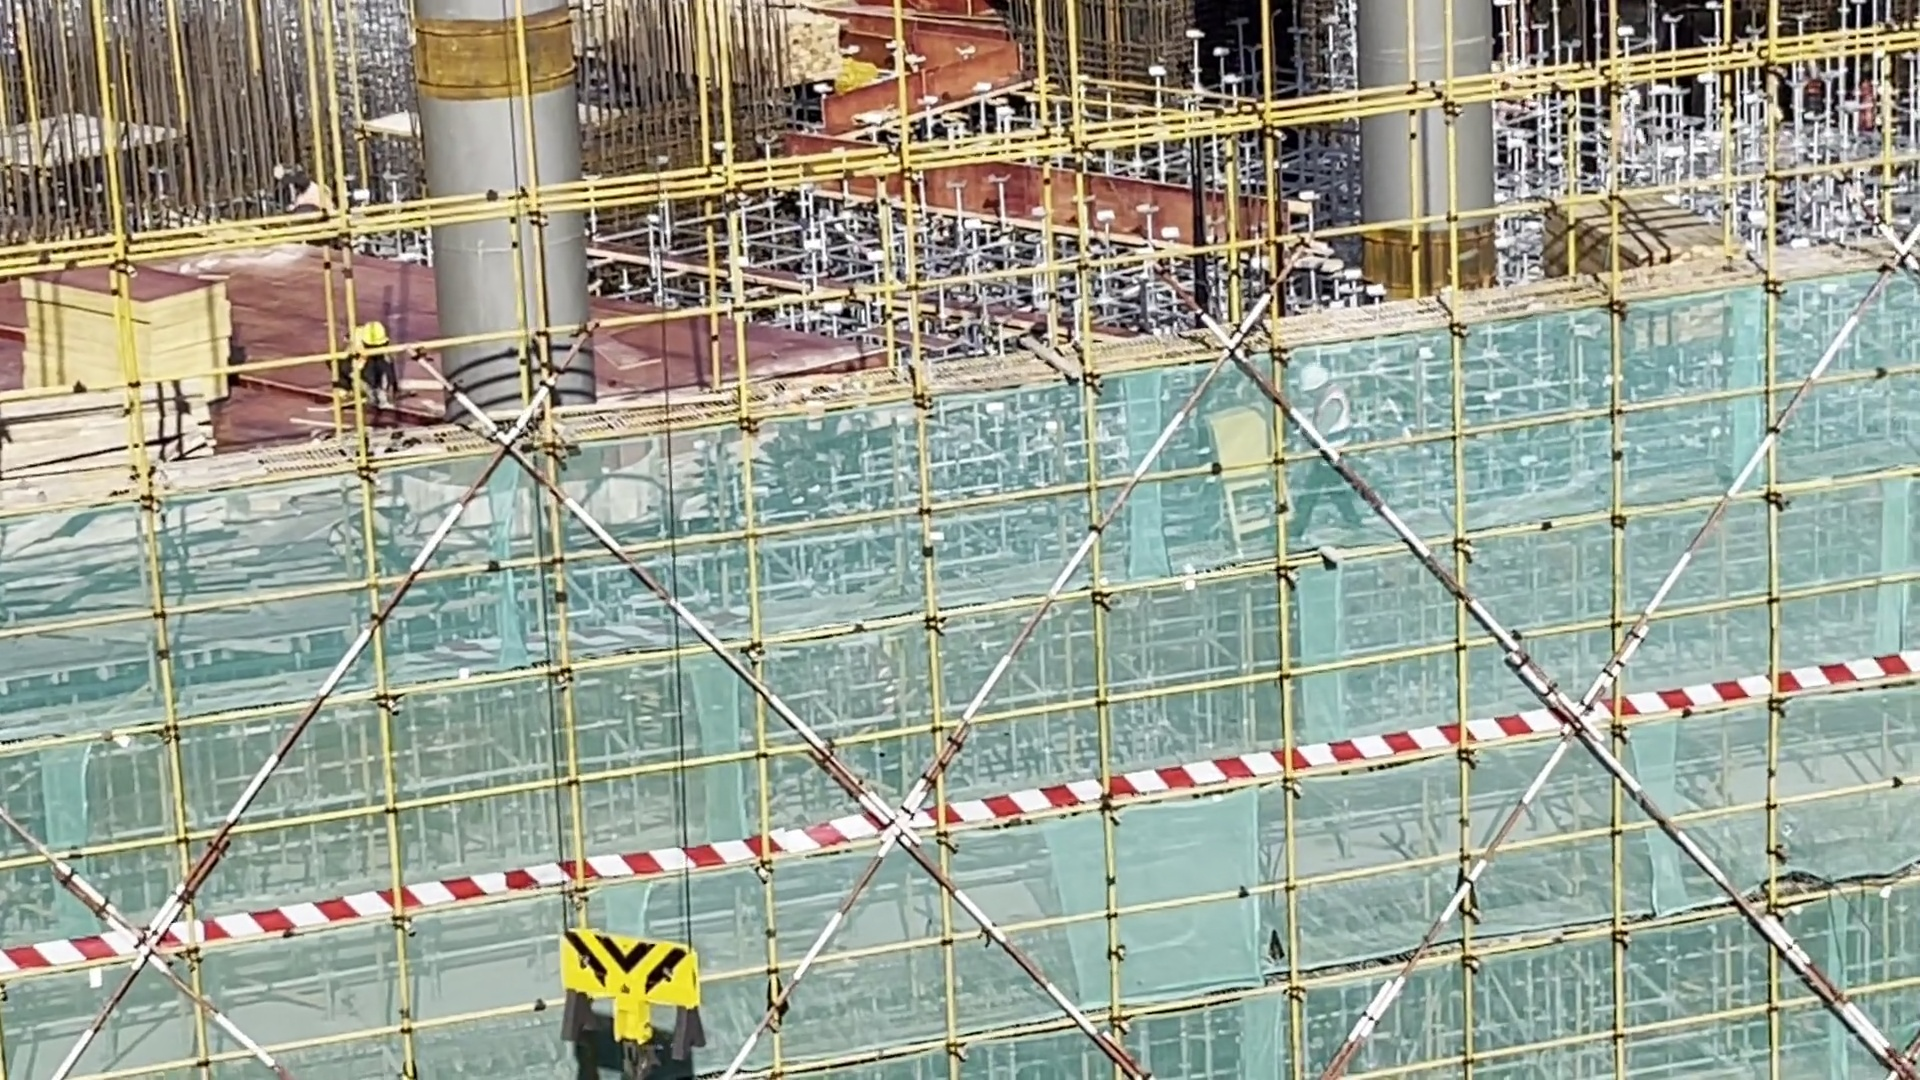board: (20, 261, 233, 392)
hook: (554, 930, 705, 1060)
person: (333, 324, 400, 408)
wood: (1550, 195, 1735, 281)
